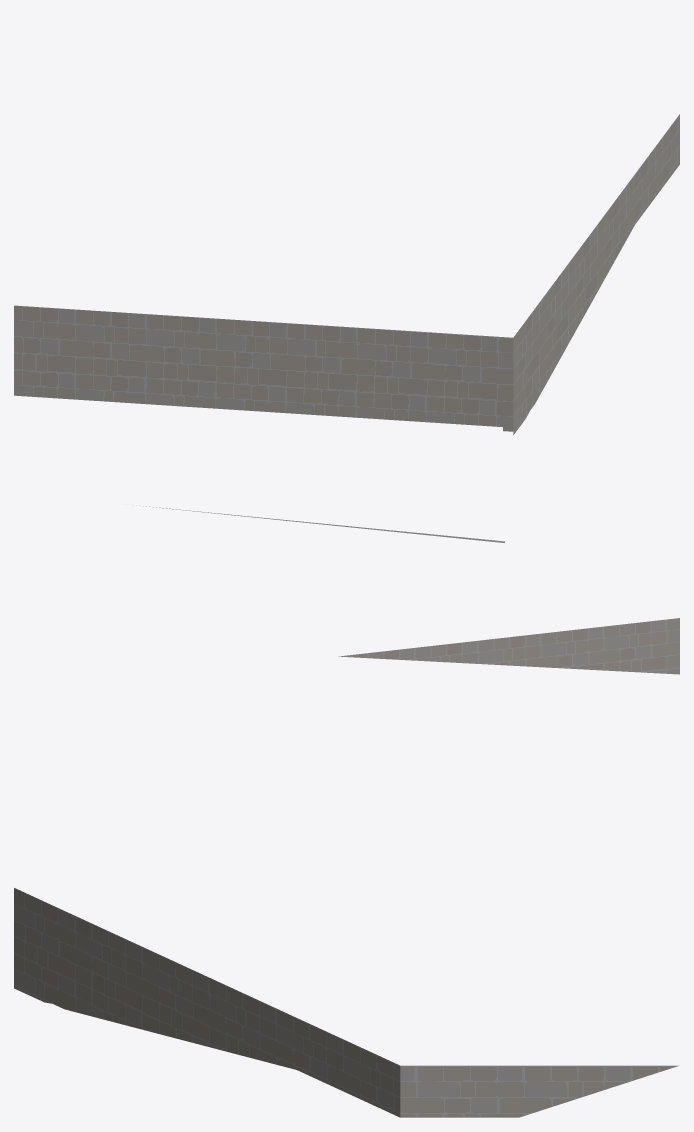
Rendered from kd_stage_13612f_5_45_bounded.glb.
The picture shows the model from 3 angles, top to bottom: view 1: azimuth 30°, elevation 25°; view 2: azimuth 150°, elevation 25°; view 3: azimuth 270°, elevation 25°; orthographic projection. The views are drawn at different scales.
Parts seen in each view (by area): view 1: kd_stage_13612f_5_45_bounded; view 2: kd_stage_13612f_5_45_bounded; view 3: kd_stage_13612f_5_45_bounded.
Boxes of the visible parts, x1,y1,x2,y2 form: kd_stage_13612f_5_45_bounded: (14,114,679,434); kd_stage_13612f_5_45_bounded: (136,505,679,674); kd_stage_13612f_5_45_bounded: (14,888,678,1117).
Size of the model in its own units: 6.47 by 0.8699 by 5.21.
1 material, 1 textured.
